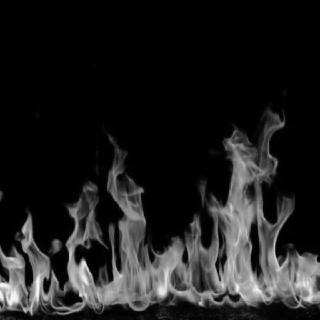Fire: (1, 105, 320, 317)
